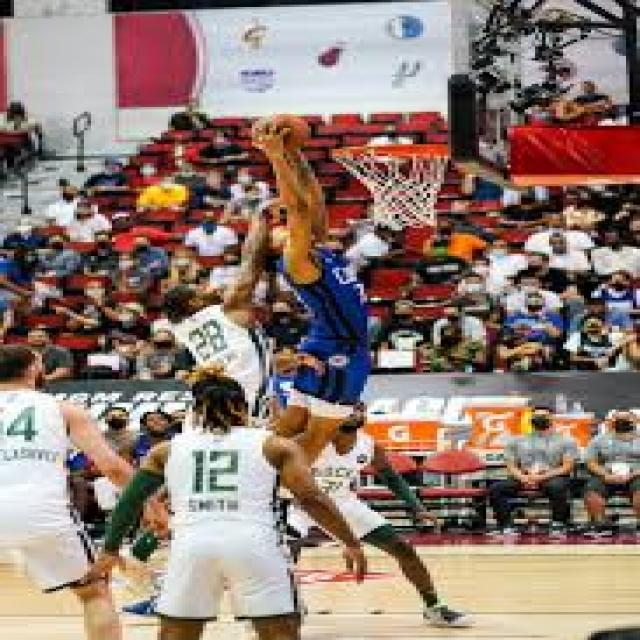rim: (256, 116, 312, 147)
